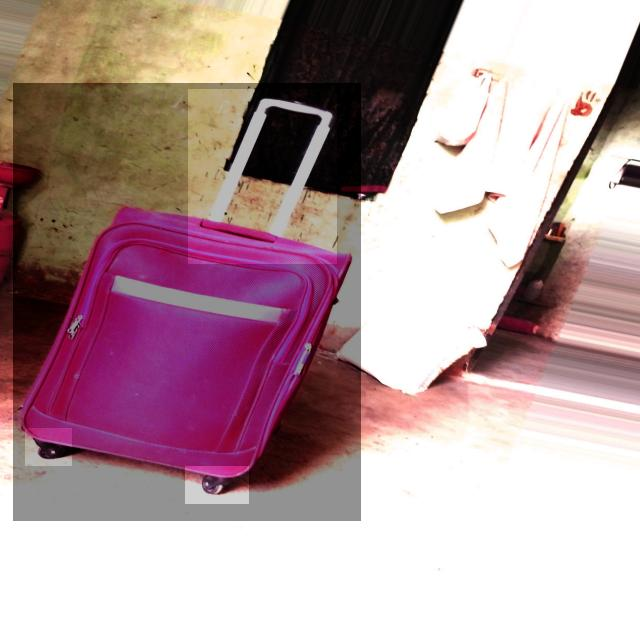Bag: (22, 88, 366, 506)
Handle: (200, 90, 352, 255)
